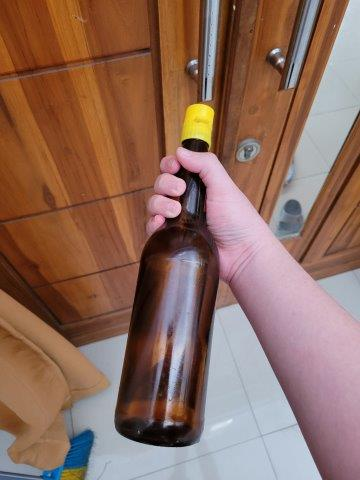botolkaca: (113, 98, 221, 447)
